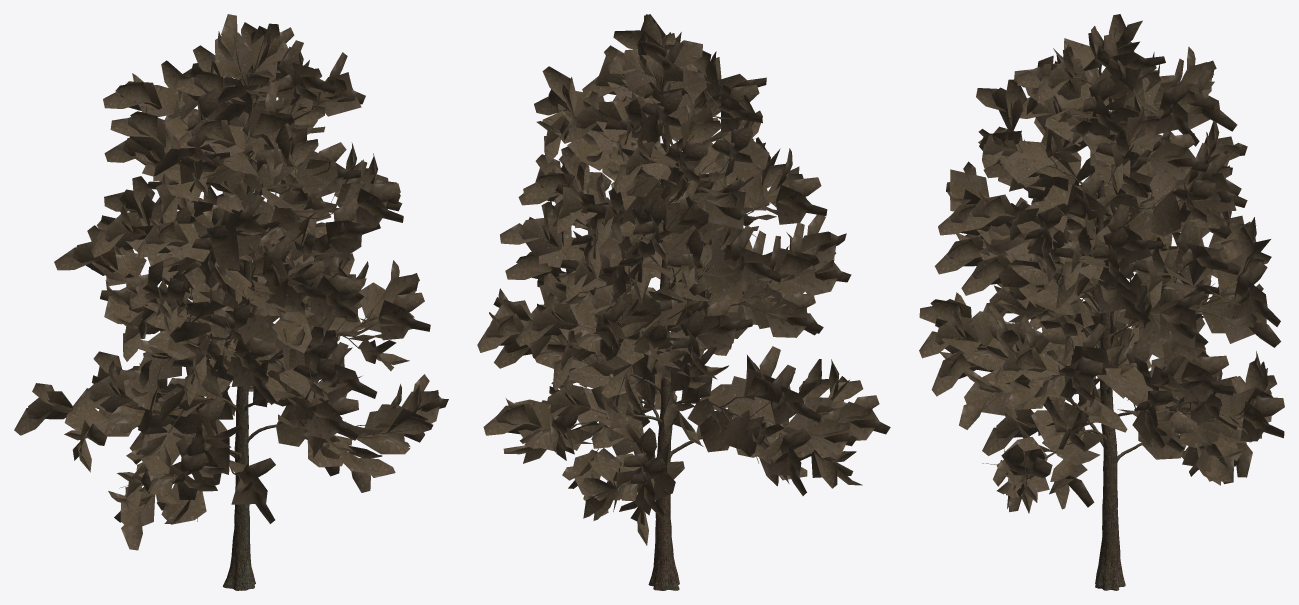
File: SM_Alder_Winter_01a.fbx
3 views of the same model, side by side, from view 1: azimuth 30°, elevation 25°; view 2: azimuth 150°, elevation 25°; view 3: azimuth 270°, elevation 25° (orthographic).
Visible parts, largest first — view 1: SM_Alder_Winter_01a_LOD0; view 2: SM_Alder_Winter_01a_LOD0; view 3: SM_Alder_Winter_01a_LOD0.
Part boxes in pixels (x1,y1,x2,y2): SM_Alder_Winter_01a_LOD0: (14,14,448,590); SM_Alder_Winter_01a_LOD0: (477,14,890,590); SM_Alder_Winter_01a_LOD0: (919,14,1284,590).
Size of the model in its own units: 1786 by 1566 by 2689.
